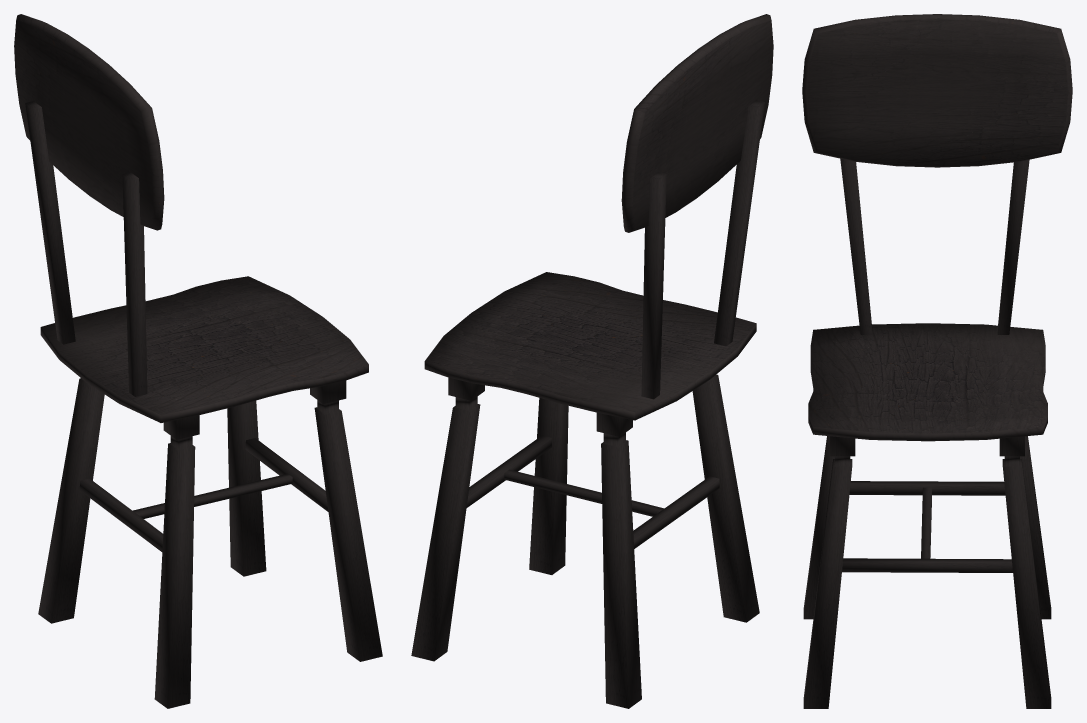
Rendered from FPH_Chair.fbx.
The picture shows the model from 3 angles, left to right: view 1: azimuth 30°, elevation 25°; view 2: azimuth 150°, elevation 25°; view 3: azimuth 270°, elevation 25°; orthographic projection. The views are drawn at different scales.
Visible parts, largest first — view 1: FPH_Chair; view 2: FPH_Chair; view 3: FPH_Chair.
Part boxes in pixels (x1,y1,x2,y2): FPH_Chair: [14, 14, 382, 708]; FPH_Chair: [411, 14, 773, 708]; FPH_Chair: [802, 14, 1072, 708].
Bounding box in the file's own units: 2.65 × 6.45 × 2.69.
